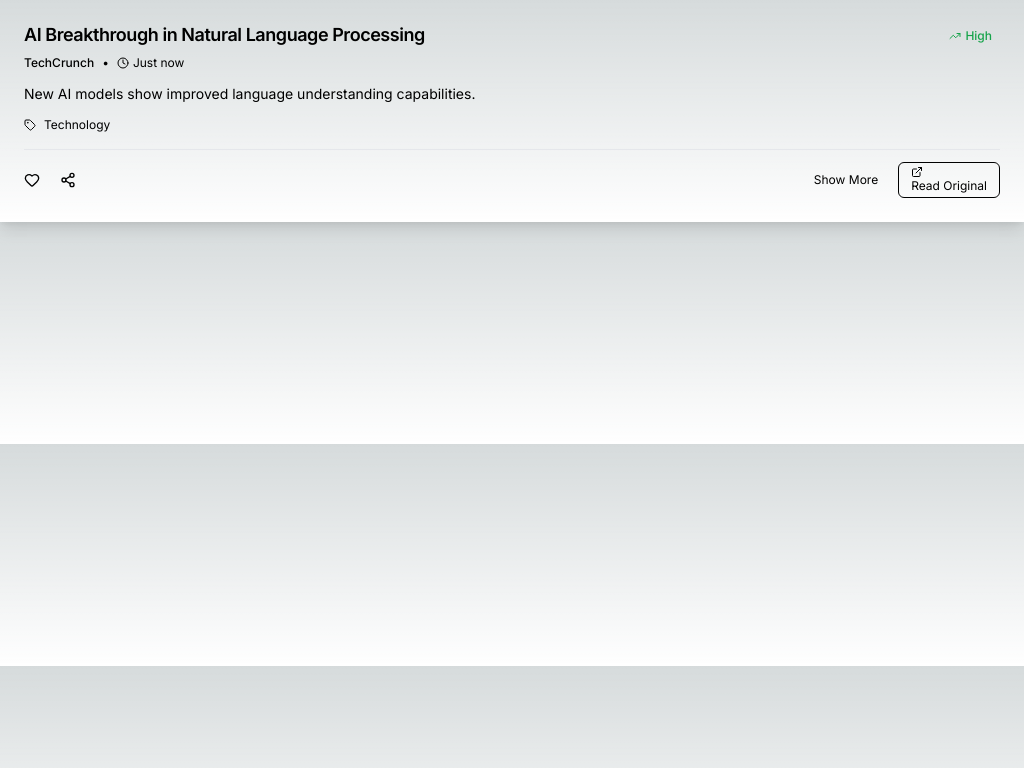
Scenario: NewsCard › shows key points when expanded
This screenshot has width=1024, height=768.
# Click show more button
Click the button "Show More".
click(846, 180)  # box [802,162,890,198]
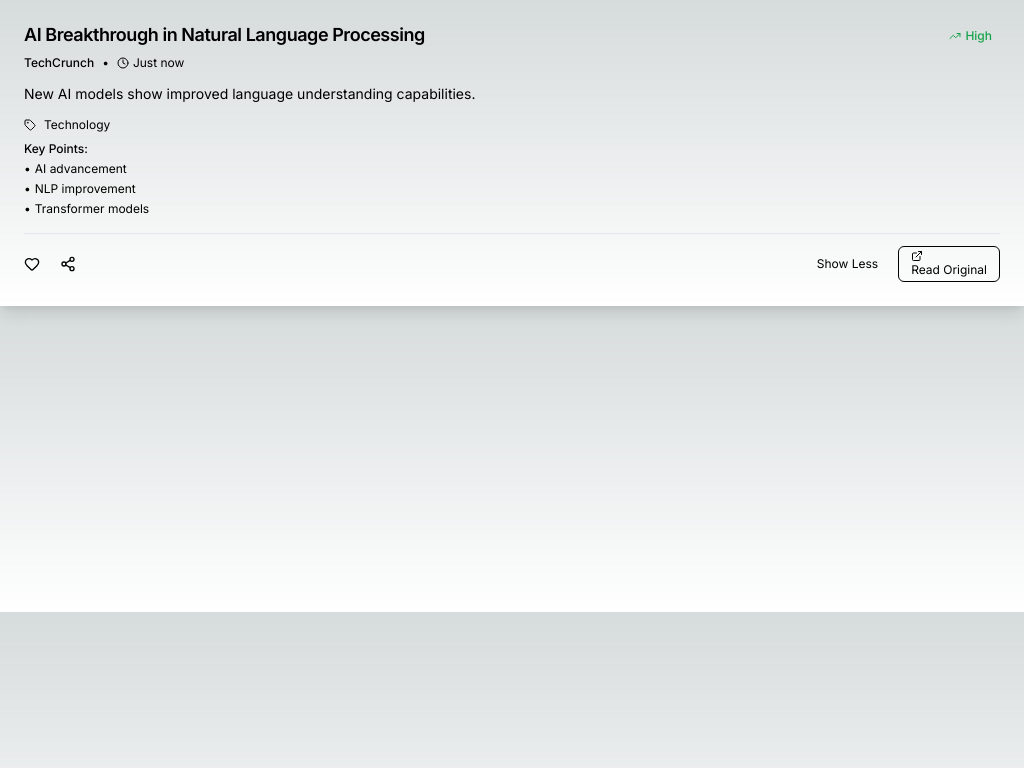
Expected: the text "Key Points:" is shown, [24,141,88,156]
Expected: the text "AI advancement" is shown, [35,161,127,177]
